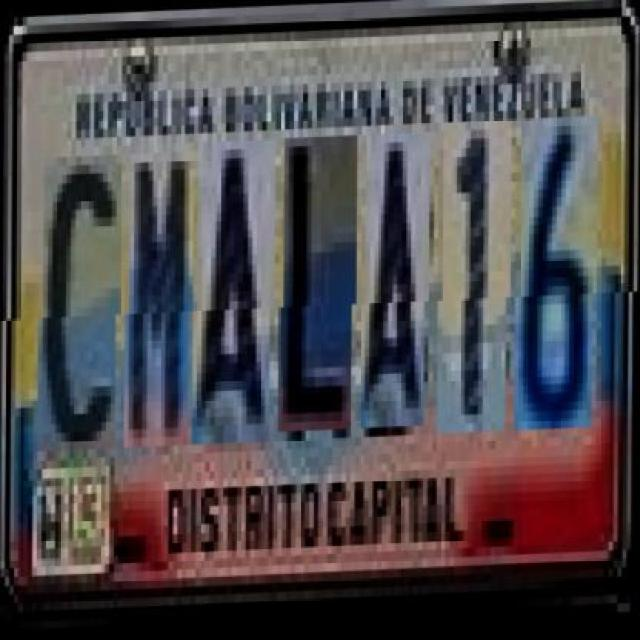1: (442, 124, 513, 438)
6: (520, 122, 598, 436)
a: (196, 142, 276, 446), (365, 136, 430, 432)
c: (42, 156, 122, 452)
l: (284, 138, 358, 434)
m: (129, 144, 194, 448)
